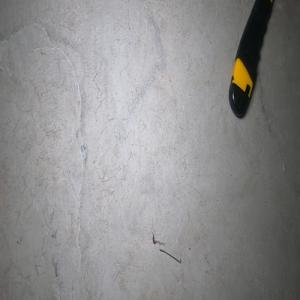Cutter: (227, 0, 274, 118)
